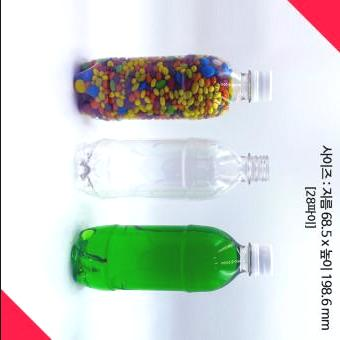bottle: (75, 134, 270, 205), (70, 224, 273, 292), (71, 54, 273, 122)
